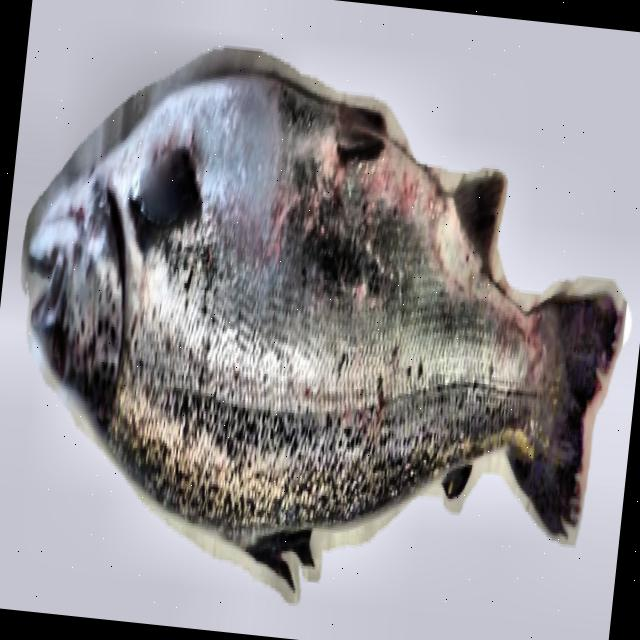mild_red: (115, 77, 542, 536)
